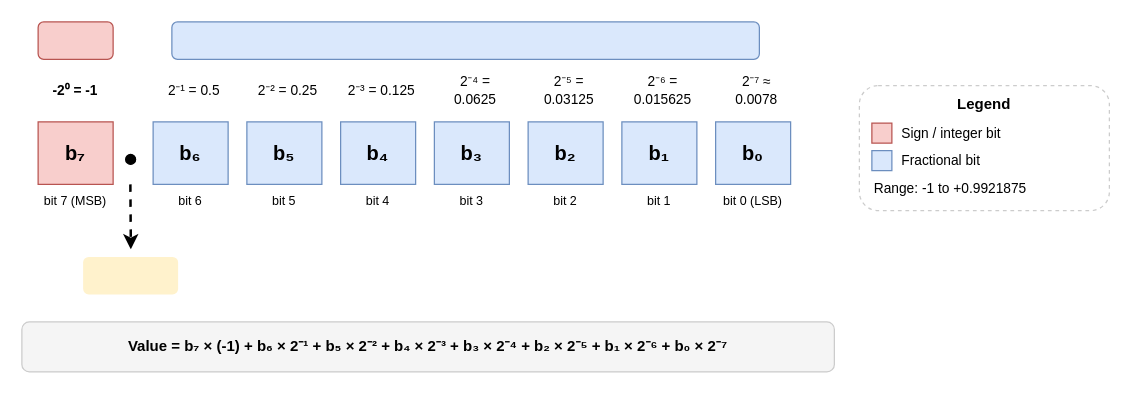
This 1131x394 diagram has some shape labels left out. Each missing label, with the box of its shape:
Fractional Part (7 bits): (171, 21, 759, 59)
Sign / Integer: (37, 21, 113, 59)
▲ implied binary point: (82, 256, 178, 294)
